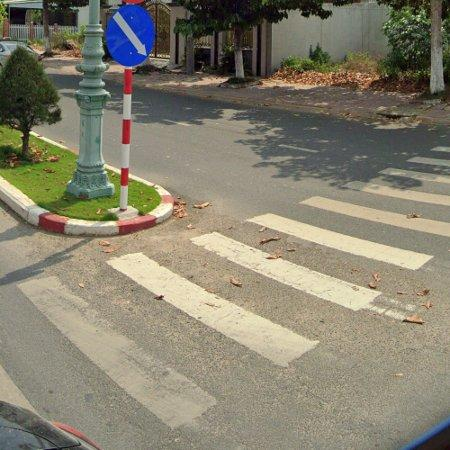crosswalks: (16, 141, 450, 430)
